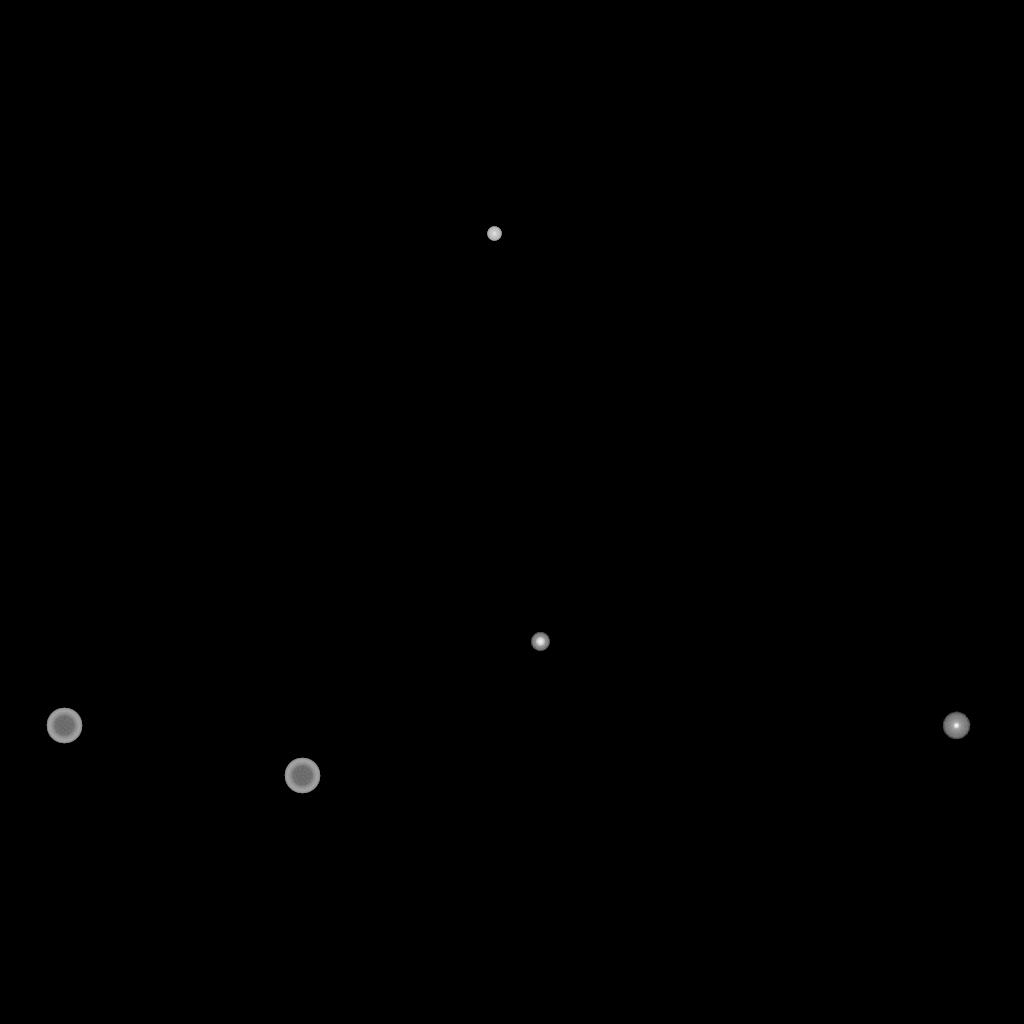depth:-10: (942, 712, 970, 740)
depth:-20: (531, 633, 549, 651)
depth:-30: (487, 227, 501, 241)
depth:-60: (284, 758, 320, 794), (46, 708, 82, 744)
